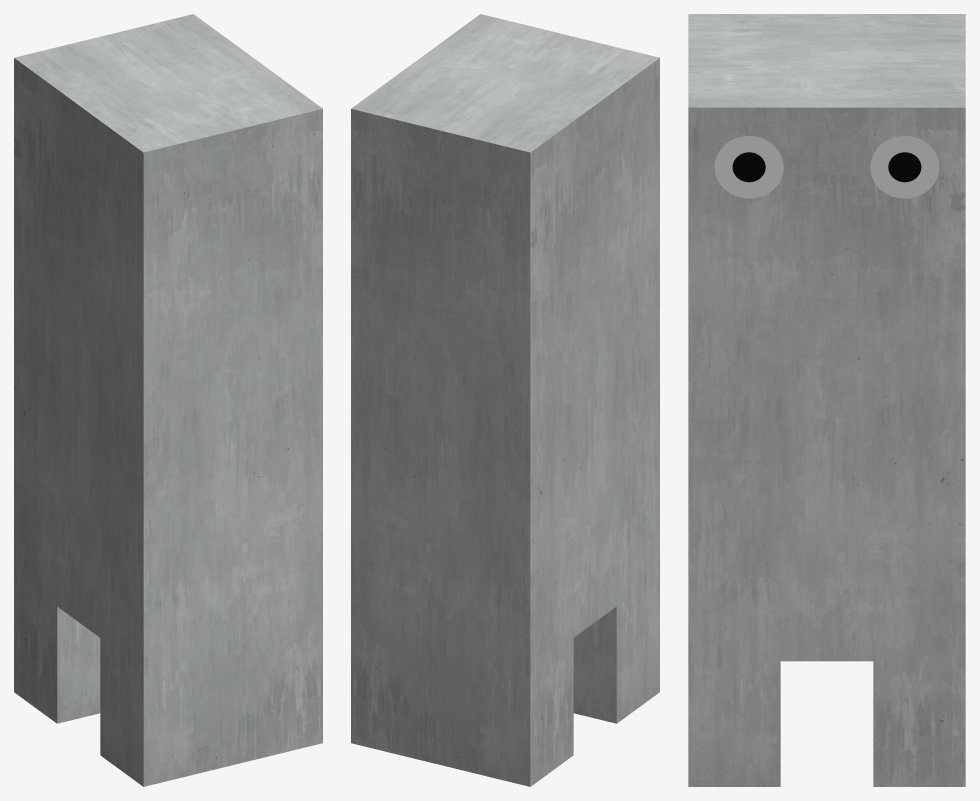
The picture shows the model from 3 angles, left to right: view 1: azimuth 30°, elevation 25°; view 2: azimuth 150°, elevation 25°; view 3: azimuth 270°, elevation 25°; orthographic projection. The views are drawn at different scales.
Parts seen in each view (by area): view 1: Cube.001; view 2: Cube.001; view 3: Cube.001.
Part boxes in pixels (x1,y1,x2,y2): Cube.001: (14,14,322,786); Cube.001: (351,14,659,786); Cube.001: (688,14,965,786).
Size of the model in its own units: 1.6 by 5.4 by 2.
3 materials, 1 textured.
